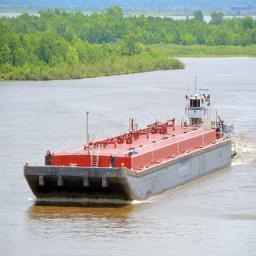tugboat: (175, 73, 236, 159)
